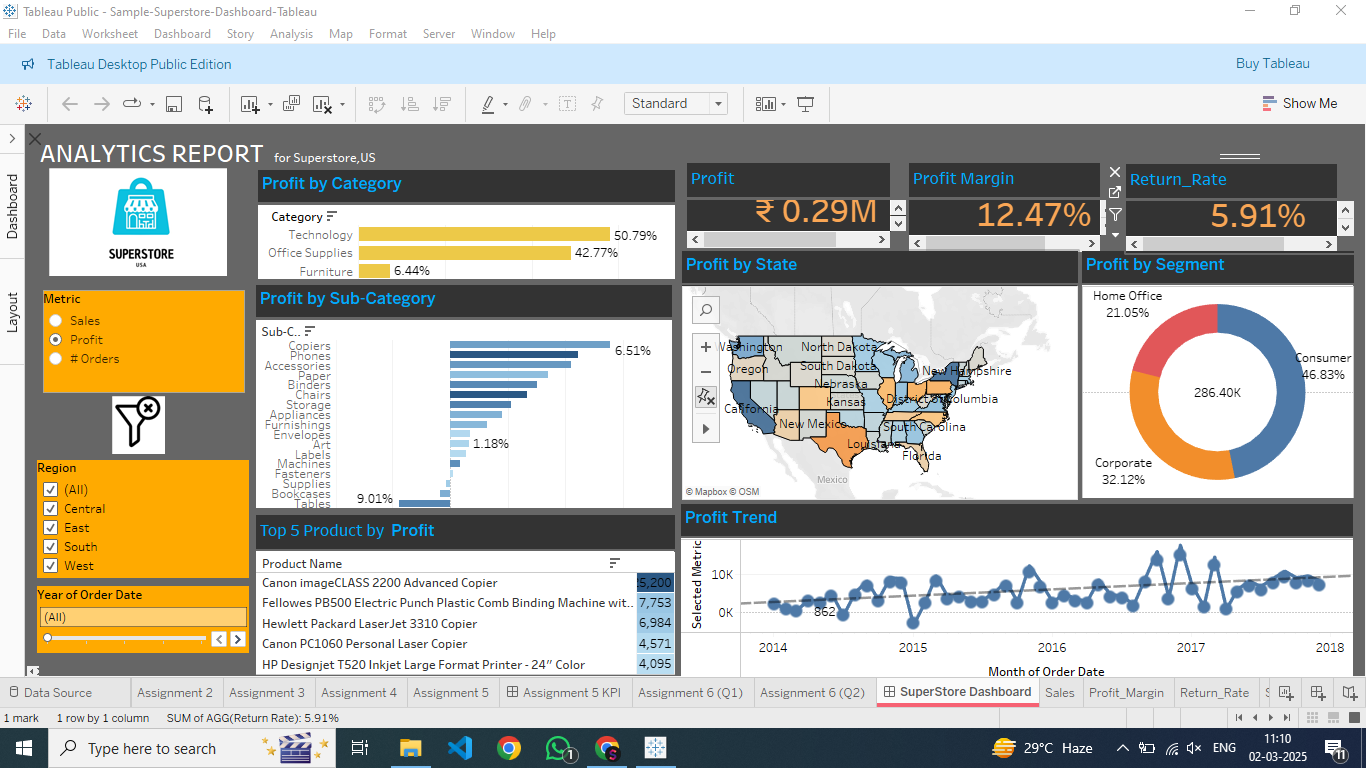

The dashboard page shown, as its layout file describes it:
{"tool":"tableau","page":{"name":"SuperStore Dashboard","canvas":[1000,1000],"units":"permille","ordinal":1},"visuals":[{"type":"dashboard-object","box":[0,10.7,15,32.2]},{"type":"title","box":[5,10.7,990,77.7]},{"type":"worksheet","title":"Sales","mark":"Automatic","box":[493.8,71,164,154.2]},{"type":"worksheet","title":"Profit_Margin","mark":"Automatic","box":[659.6,71,155.2,160.9]},{"type":"worksheet","title":"Return_Rate","mark":"Automatic","box":[821.7,72.4,170.2,160.9]},{"type":"worksheet","title":"Category","mark":"Automatic","rows":["Category"],"cols":["Calculation_512847448154771456"],"box":[173.9,83.1,311.1,198.4]},{"type":"worksheet","title":"Segment","mark":"Pie","rows":["Calculation_744219878809817096","Calculation_744219878809817096"],"box":[788.6,229.2,203.2,449.1]},{"type":"worksheet","title":"State","mark":"Automatic","box":[490.7,230.6,295.5,451.7]},{"type":"worksheet","title":"Sub-Category","mark":"Automatic","rows":["Sub-Category"],"cols":["Calculation_512847448154771456"],"box":[172.1,292.2,311.1,403.5]},{"type":"parameter","param":"[Parameters].[Parameter 2]","box":[13.1,300.3,150.9,186.3]},{"type":"dashboard-object","box":[59.9,492,49.9,105.9]},{"type":"filter","title":"Region","param":"[federated.1rx5s020so36to1h3epwl0f0dl1k].[none:Region:nk]","box":[5.6,600.5,164.6,234.6]},{"type":"worksheet","title":"Top 5 Product","mark":"Bar","rows":["Product Name"],"box":[172.7,707.8,313,289.5]},{"type":"filter","title":"Region","param":"[federated.1rx5s020so36to1h3epwl0f0dl1k].[yr:Order Date:ok]","box":[5.6,835.1,164.6,138.1]}]}

Visuals, with their boxes on the dashboard's canvas, which has no fixed pixel size, in thousandths of its width and height (x1, y1, x2, y2). These are canvas units, not pixel positions in the 1366x768 screenshot, which may show the page scaled, cropped or inside an application window:
dashboard-object: 0 11 15 43
title: 5 11 995 88
"Sales" worksheet: 494 71 658 225
"Profit_Margin" worksheet: 660 71 815 232
"Return_Rate" worksheet: 822 72 992 233
"Category" worksheet: 174 83 485 282
"Segment" worksheet (Pie marks): 789 229 992 678
"State" worksheet: 491 231 786 682
"Sub-Category" worksheet: 172 292 483 696
parameter: 13 300 164 487
dashboard-object: 60 492 110 598
"Region" filter: 6 600 170 835
"Top 5 Product" worksheet (Bar marks): 173 708 486 997
"Region" filter: 6 835 170 973
